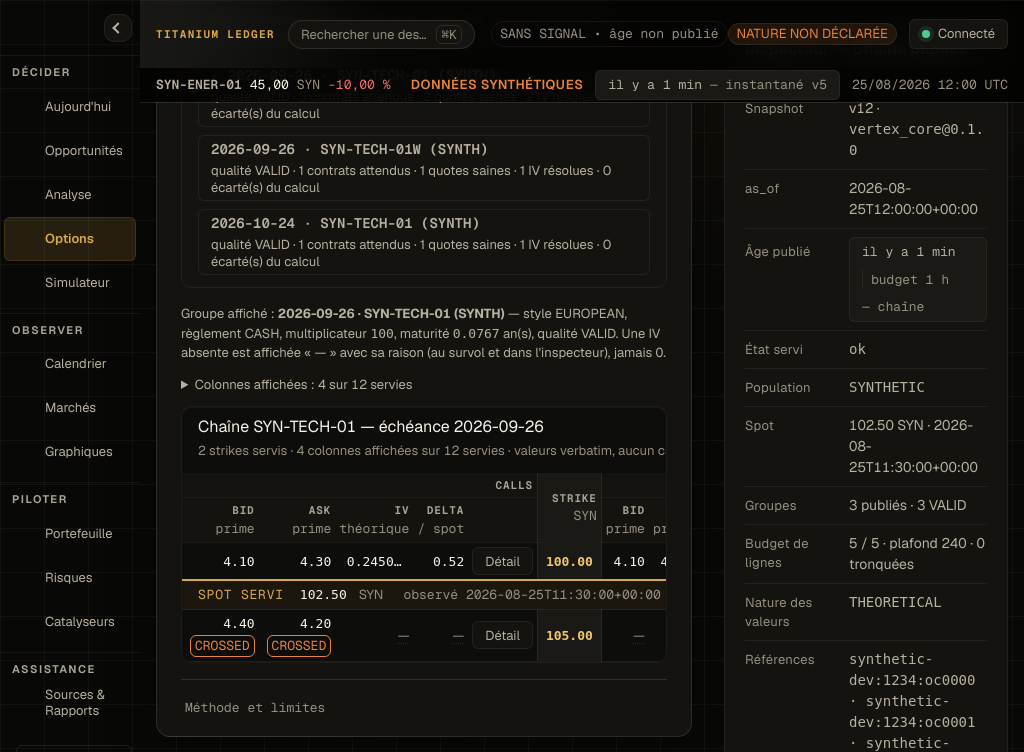
Test: Page Options — états › DIT ce que le contrat ne publie pas, au lieu de laisser croire à un oubli
(page scrolled)
Click the heading "Colonnes affichées : 4 sur 12 servies" at x=304, y=384, box [195,376,412,393]
(page scrolled)
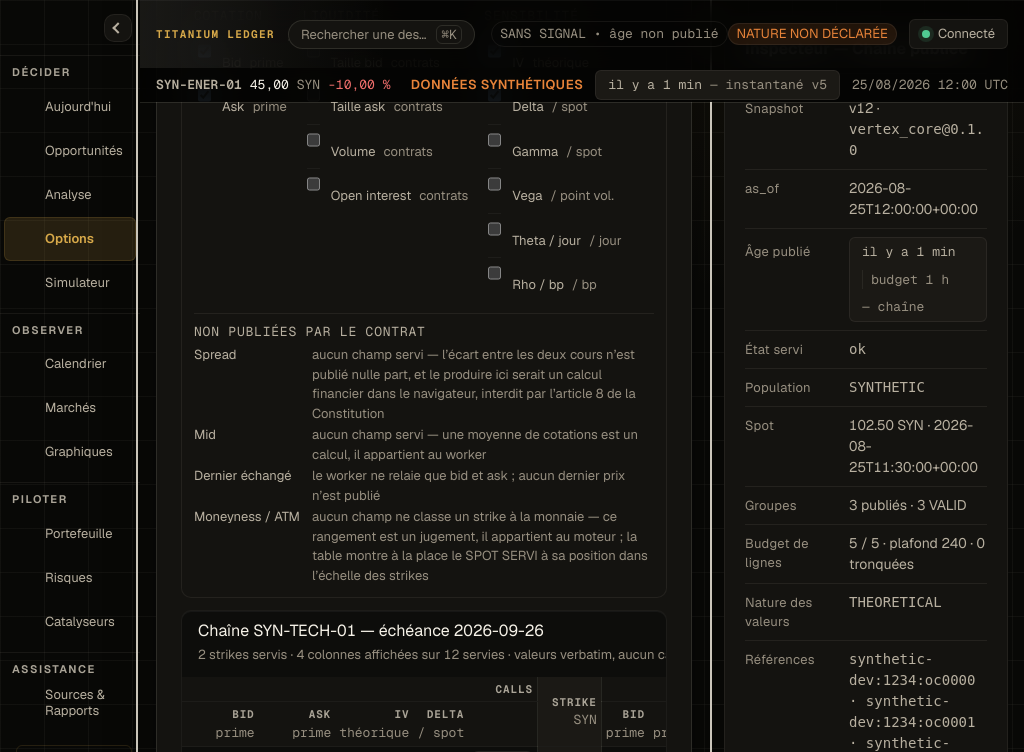
Expected: the text "Non publiées par le contrat" is shown, [194,323,426,340]
Expected: the text "Spread" is shown, [194,346,236,363]
Expected: the text "calcul financier dans le navigateur" is shown, [312,346,636,422]
